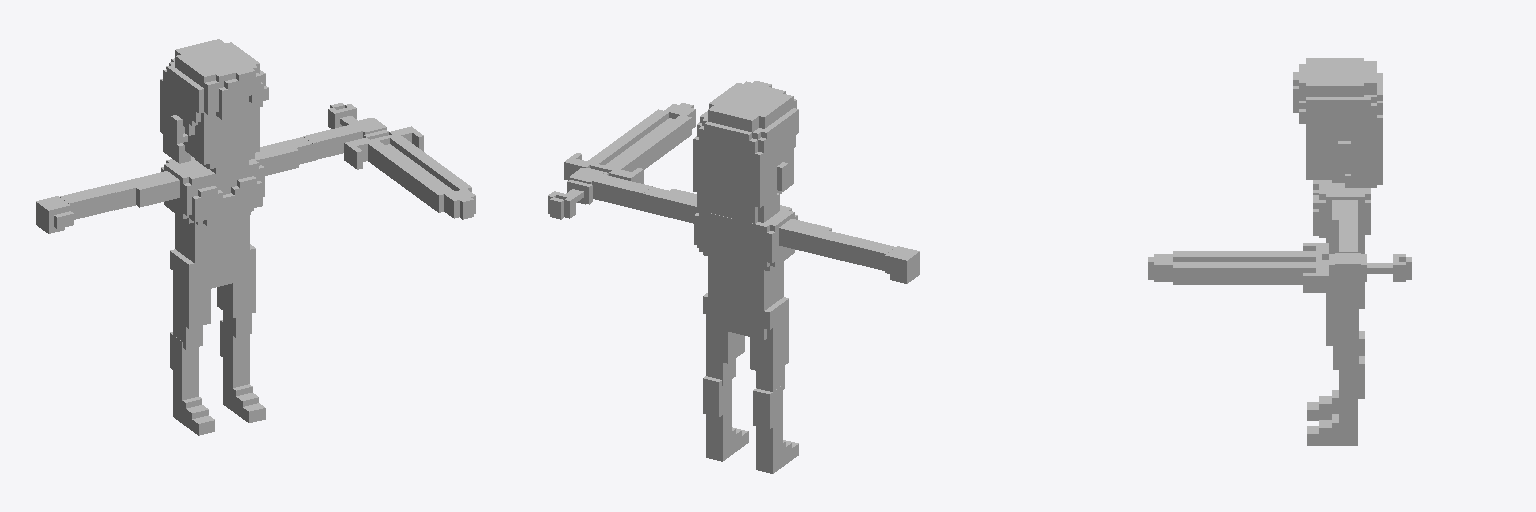
File: Sords.obj
3 views of the same model, side by side, from view 1: azimuth 30°, elevation 25°; view 2: azimuth 150°, elevation 25°; view 3: azimuth 270°, elevation 25° (orthographic).
Parts seen in each view (by area): view 1: Model; view 2: Model; view 3: Model.
Part boxes in pixels (x1,y1,x2,y2): Model: (36,39,475,435); Model: (548,81,919,473); Model: (1148,58,1411,445).
Bounding box in the file's own units: 64.25 × 61.05 × 40.98.